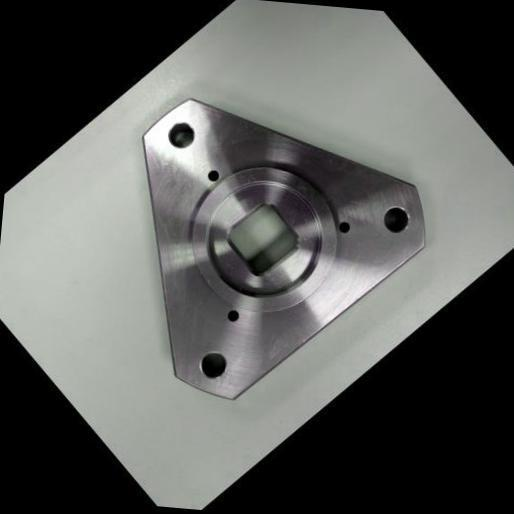hole: (186, 338, 237, 390), (154, 108, 205, 159), (370, 194, 420, 245), (219, 300, 248, 328), (333, 214, 356, 238), (202, 163, 225, 186)
